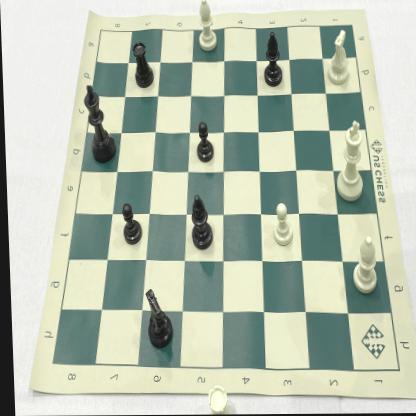black-bishop: (257, 24, 288, 92), (186, 191, 213, 254)
black-king: (79, 79, 119, 167)
black-knight: (136, 286, 174, 355)
black-pawn: (116, 200, 143, 249), (192, 118, 216, 166)
black-rook: (128, 35, 155, 94)
white-bishop: (348, 232, 380, 297), (193, 0, 221, 55)
white-king: (328, 117, 369, 206)
white-knight: (322, 21, 353, 91)
white-pawn: (268, 198, 294, 249)
